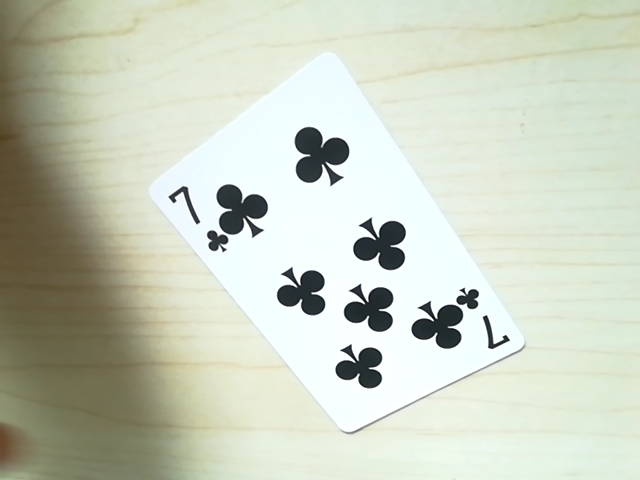mh 7: (167, 179, 220, 253), (466, 287, 506, 353)
